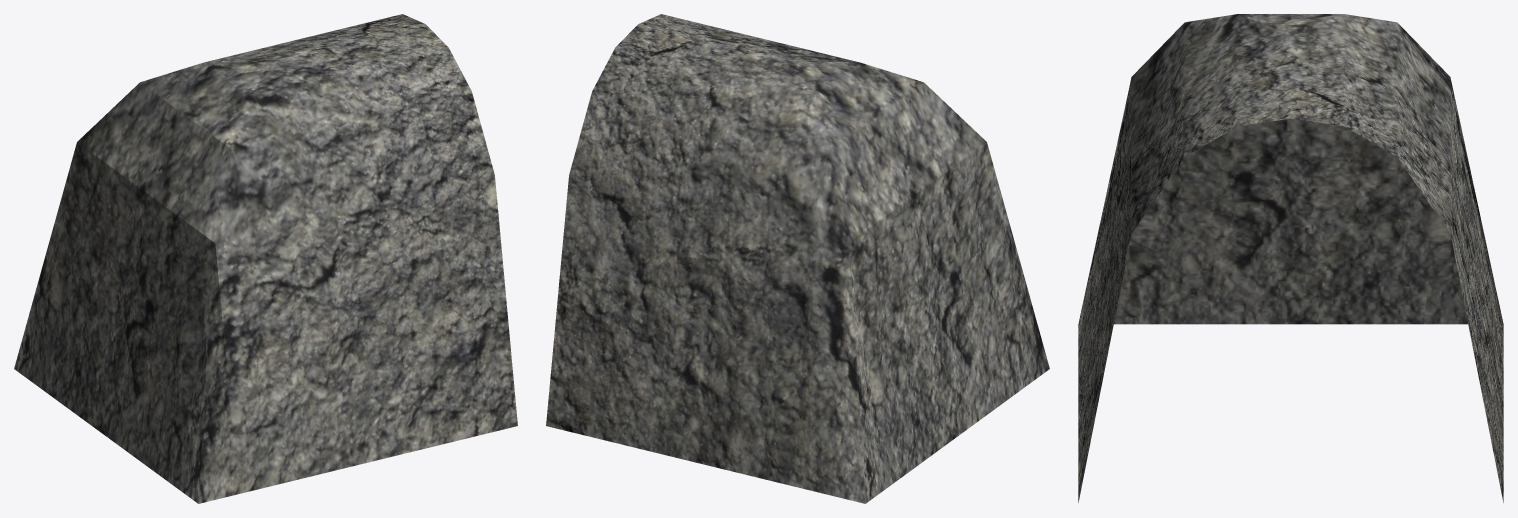
The model's file is Stone2d.obj.
3 views of the same model, side by side, from view 1: azimuth 30°, elevation 25°; view 2: azimuth 150°, elevation 25°; view 3: azimuth 270°, elevation 25° (orthographic). The views are drawn at different scales.
Parts seen in each view (by area): view 1: Grid_Grid.010_Grid_Grid.032; view 2: Grid_Grid.010_Grid_Grid.032; view 3: Grid_Grid.010_Grid_Grid.032.
Boxes of the visible parts, box(x1,y1,x2,y2) form: Grid_Grid.010_Grid_Grid.032: box(14, 14, 517, 503); Grid_Grid.010_Grid_Grid.032: box(546, 14, 1049, 503); Grid_Grid.010_Grid_Grid.032: box(1078, 14, 1503, 502).
Size of the model in its own units: 1 by 1 by 1.
